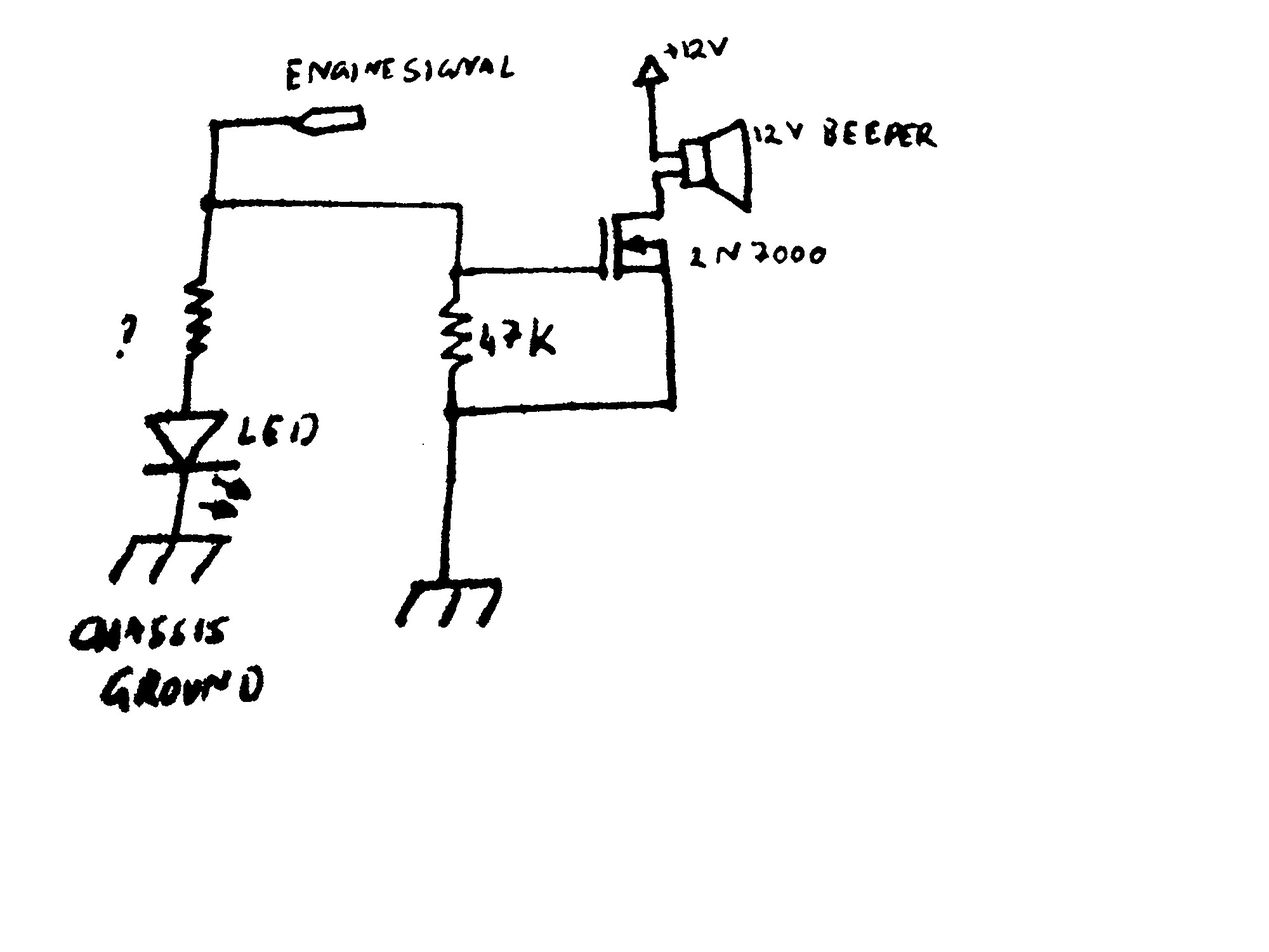diode.light_emitting: (136, 410, 253, 522)
gnd: (107, 531, 238, 586), (394, 576, 505, 630)
junction: (200, 194, 218, 215), (444, 402, 461, 423), (664, 397, 682, 415), (447, 266, 464, 284), (453, 199, 468, 214), (209, 117, 223, 131), (648, 147, 661, 162), (651, 172, 664, 185)
resistor: (437, 296, 476, 374), (181, 275, 213, 362)
speaker: (676, 116, 755, 216)
terminal: (292, 105, 369, 139)
text: (285, 52, 518, 93), (98, 664, 268, 716), (67, 612, 232, 654), (685, 239, 830, 273), (821, 116, 943, 152), (478, 315, 559, 361), (237, 409, 322, 450), (661, 34, 731, 62), (751, 117, 805, 149), (112, 312, 138, 359)
transistor.fet: (596, 209, 673, 282)
vss: (630, 55, 670, 89)
